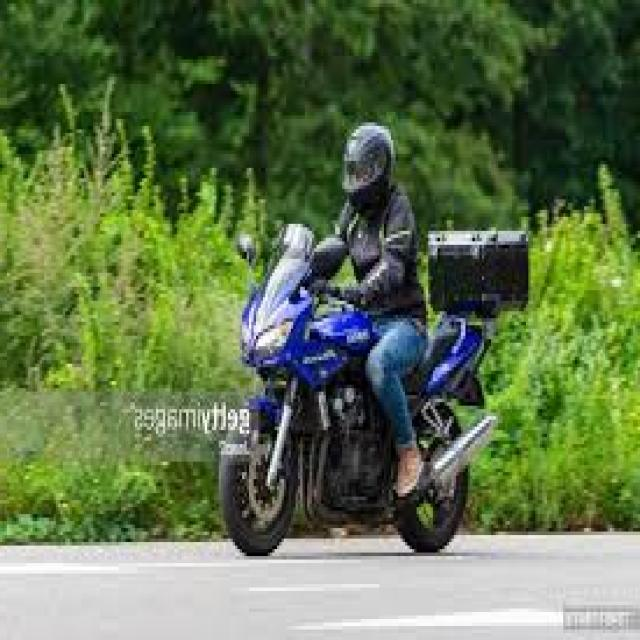bike: (219, 221, 500, 558)
